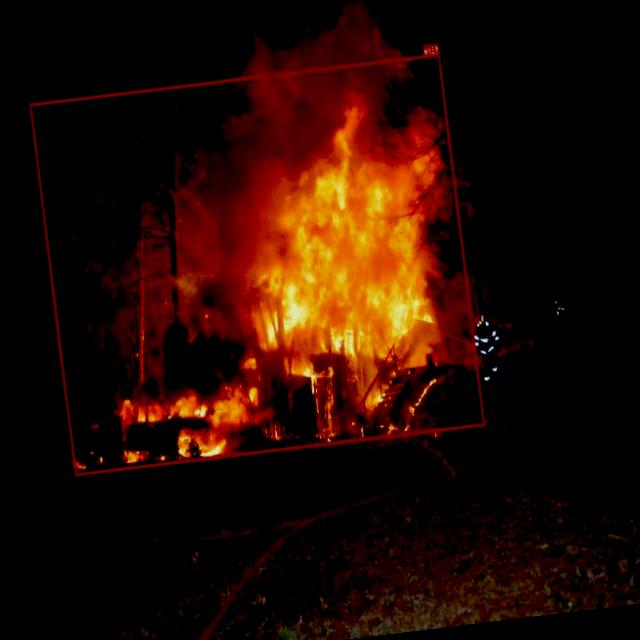fire: (29, 52, 485, 476)
